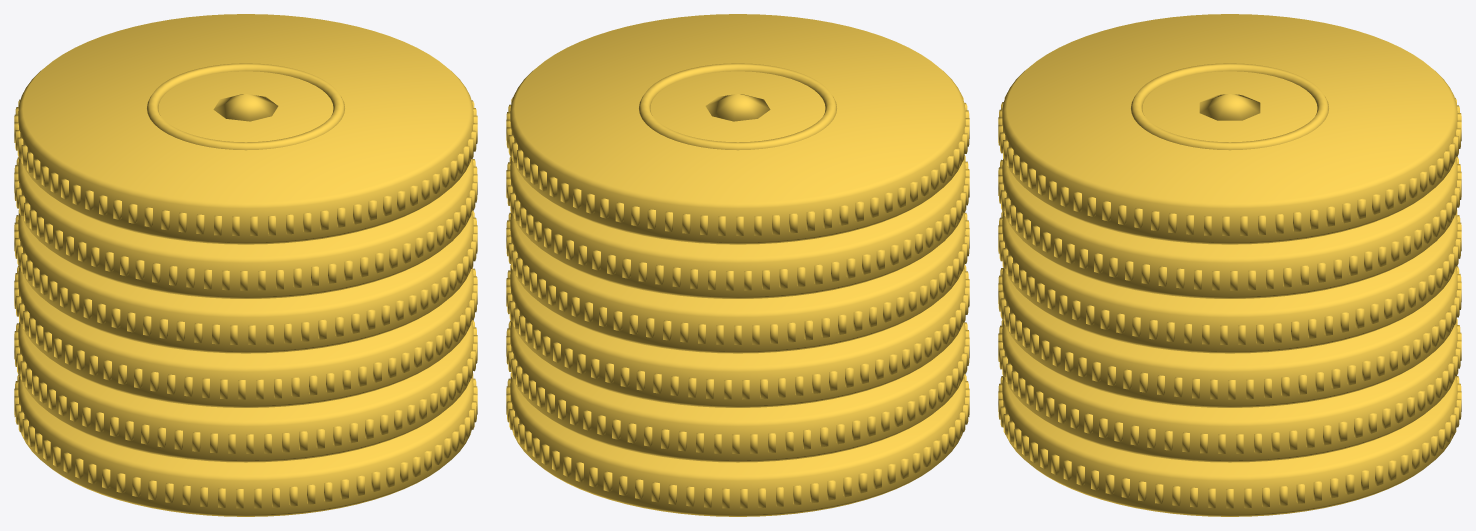
Rendered from SM_CoinStack_01.fbx.
3 views of the same model, side by side, from view 1: azimuth 30°, elevation 25°; view 2: azimuth 150°, elevation 25°; view 3: azimuth 270°, elevation 25° (orthographic).
Parts seen in each view (by area): view 1: SM_CoinStack.001; view 2: SM_CoinStack.001; view 3: SM_CoinStack.001.
Part boxes in pixels (bbox=[...]): SM_CoinStack.001: bbox=[14, 14, 477, 516]; SM_CoinStack.001: bbox=[506, 14, 969, 516]; SM_CoinStack.001: bbox=[998, 14, 1461, 516].
Bounding box in the file's own units: 1 × 0.7828 × 1.
